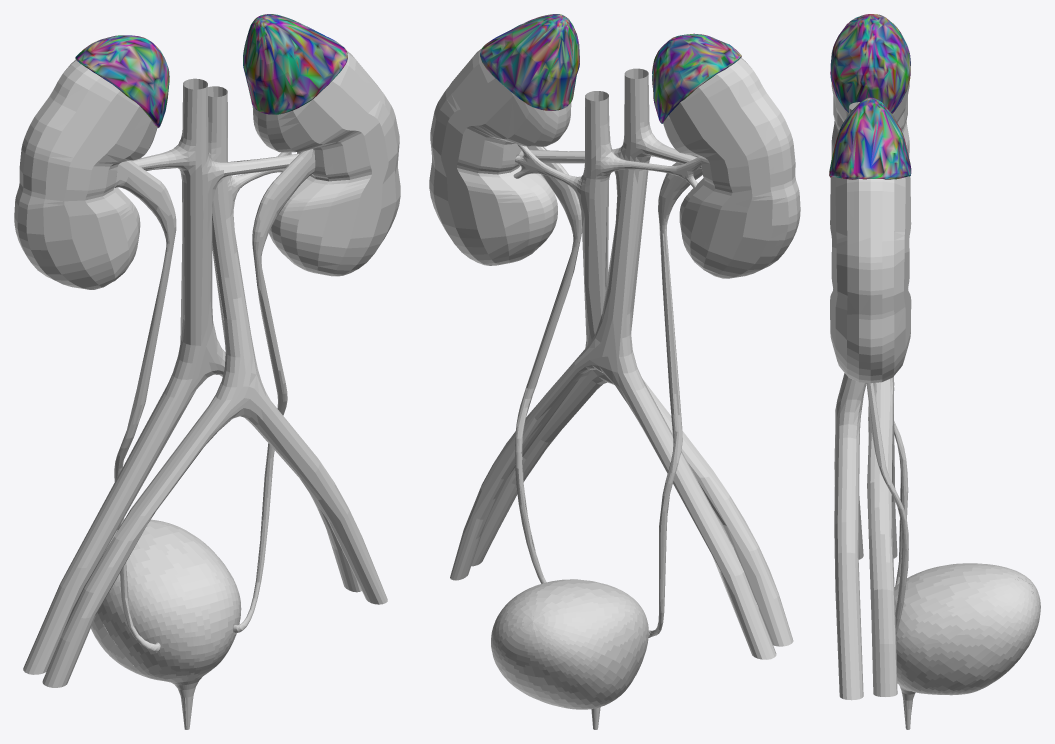
The model's file is piss system.fbx.
The picture shows the model from 3 angles, left to right: view 1: azimuth 30°, elevation 25°; view 2: azimuth 150°, elevation 25°; view 3: azimuth 270°, elevation 25°; orthographic projection. The views are drawn at different scales.
Parts seen in each view (by area): view 1: Veins_Urinary system textures_0, Lt.Kidney_Urinary system textures_0, Arteries_Urinary system textures_0, Rt.Kidney_Urinary system textures_0, Bladder_Urinary system textures_0, Rt.Adrenal_Urinary system textures_0, Rt.Ureters_Urinary system textures_0, Lt.Ureters_Urinary system textures_0, Lt.Adrenal_Urinary system textures_0; view 2: Arteries_Urinary system textures_0, Lt.Kidney_Urinary system textures_0, Rt.Kidney_Urinary system textures_0, Veins_Urinary system textures_0, Bladder_Urinary system textures_0, Rt.Adrenal_Urinary system textures_0, Lt.Ureters_Urinary system textures_0, Lt.Adrenal_Urinary system textures_0, Rt.Ureters_Urinary system textures_0; view 3: Bladder_Urinary system textures_0, Rt.Kidney_Urinary system textures_0, Veins_Urinary system textures_0, Arteries_Urinary system textures_0, Lt.Adrenal_Urinary system textures_0, Rt.Adrenal_Urinary system textures_0, Rt.Ureters_Urinary system textures_0, Lt.Kidney_Urinary system textures_0, Lt.Ureters_Urinary system textures_0.
Part boxes in pixels (bbox=[...]): Veins_Urinary system textures_0: bbox=[42, 86, 387, 687]; Lt.Kidney_Urinary system textures_0: bbox=[14, 60, 157, 289]; Arteries_Urinary system textures_0: bbox=[23, 78, 361, 674]; Rt.Kidney_Urinary system textures_0: bbox=[252, 50, 400, 276]; Bladder_Urinary system textures_0: bbox=[91, 519, 241, 729]; Rt.Adrenal_Urinary system textures_0: bbox=[243, 14, 347, 114]; Rt.Ureters_Urinary system textures_0: bbox=[233, 149, 315, 633]; Lt.Ureters_Urinary system textures_0: bbox=[114, 160, 176, 652]; Lt.Adrenal_Urinary system textures_0: bbox=[75, 35, 169, 127]; Arteries_Urinary system textures_0: bbox=[450, 68, 776, 659]; Lt.Kidney_Urinary system textures_0: bbox=[663, 57, 800, 278]; Rt.Kidney_Urinary system textures_0: bbox=[429, 48, 571, 265]; Veins_Urinary system textures_0: bbox=[471, 91, 793, 646]; Bladder_Urinary system textures_0: bbox=[491, 579, 648, 729]; Rt.Adrenal_Urinary system textures_0: bbox=[480, 14, 579, 110]; Lt.Ureters_Urinary system textures_0: bbox=[648, 155, 702, 637]; Lt.Adrenal_Urinary system textures_0: bbox=[652, 33, 741, 123]; Rt.Ureters_Urinary system textures_0: bbox=[514, 146, 581, 583]; Bladder_Urinary system textures_0: bbox=[894, 563, 1040, 729]; Rt.Kidney_Urinary system textures_0: bbox=[830, 176, 911, 383]; Veins_Urinary system textures_0: bbox=[834, 373, 866, 700]; Arteries_Urinary system textures_0: bbox=[849, 102, 897, 696]; Lt.Adrenal_Urinary system textures_0: bbox=[830, 14, 910, 113]; Rt.Adrenal_Urinary system textures_0: bbox=[829, 97, 911, 179]; Rt.Ureters_Urinary system textures_0: bbox=[866, 383, 908, 634]; Lt.Kidney_Urinary system textures_0: bbox=[831, 82, 909, 157]; Lt.Ureters_Urinary system textures_0: bbox=[894, 421, 908, 586].
Bounding box in the file's own units: 338 × 618 × 177.
